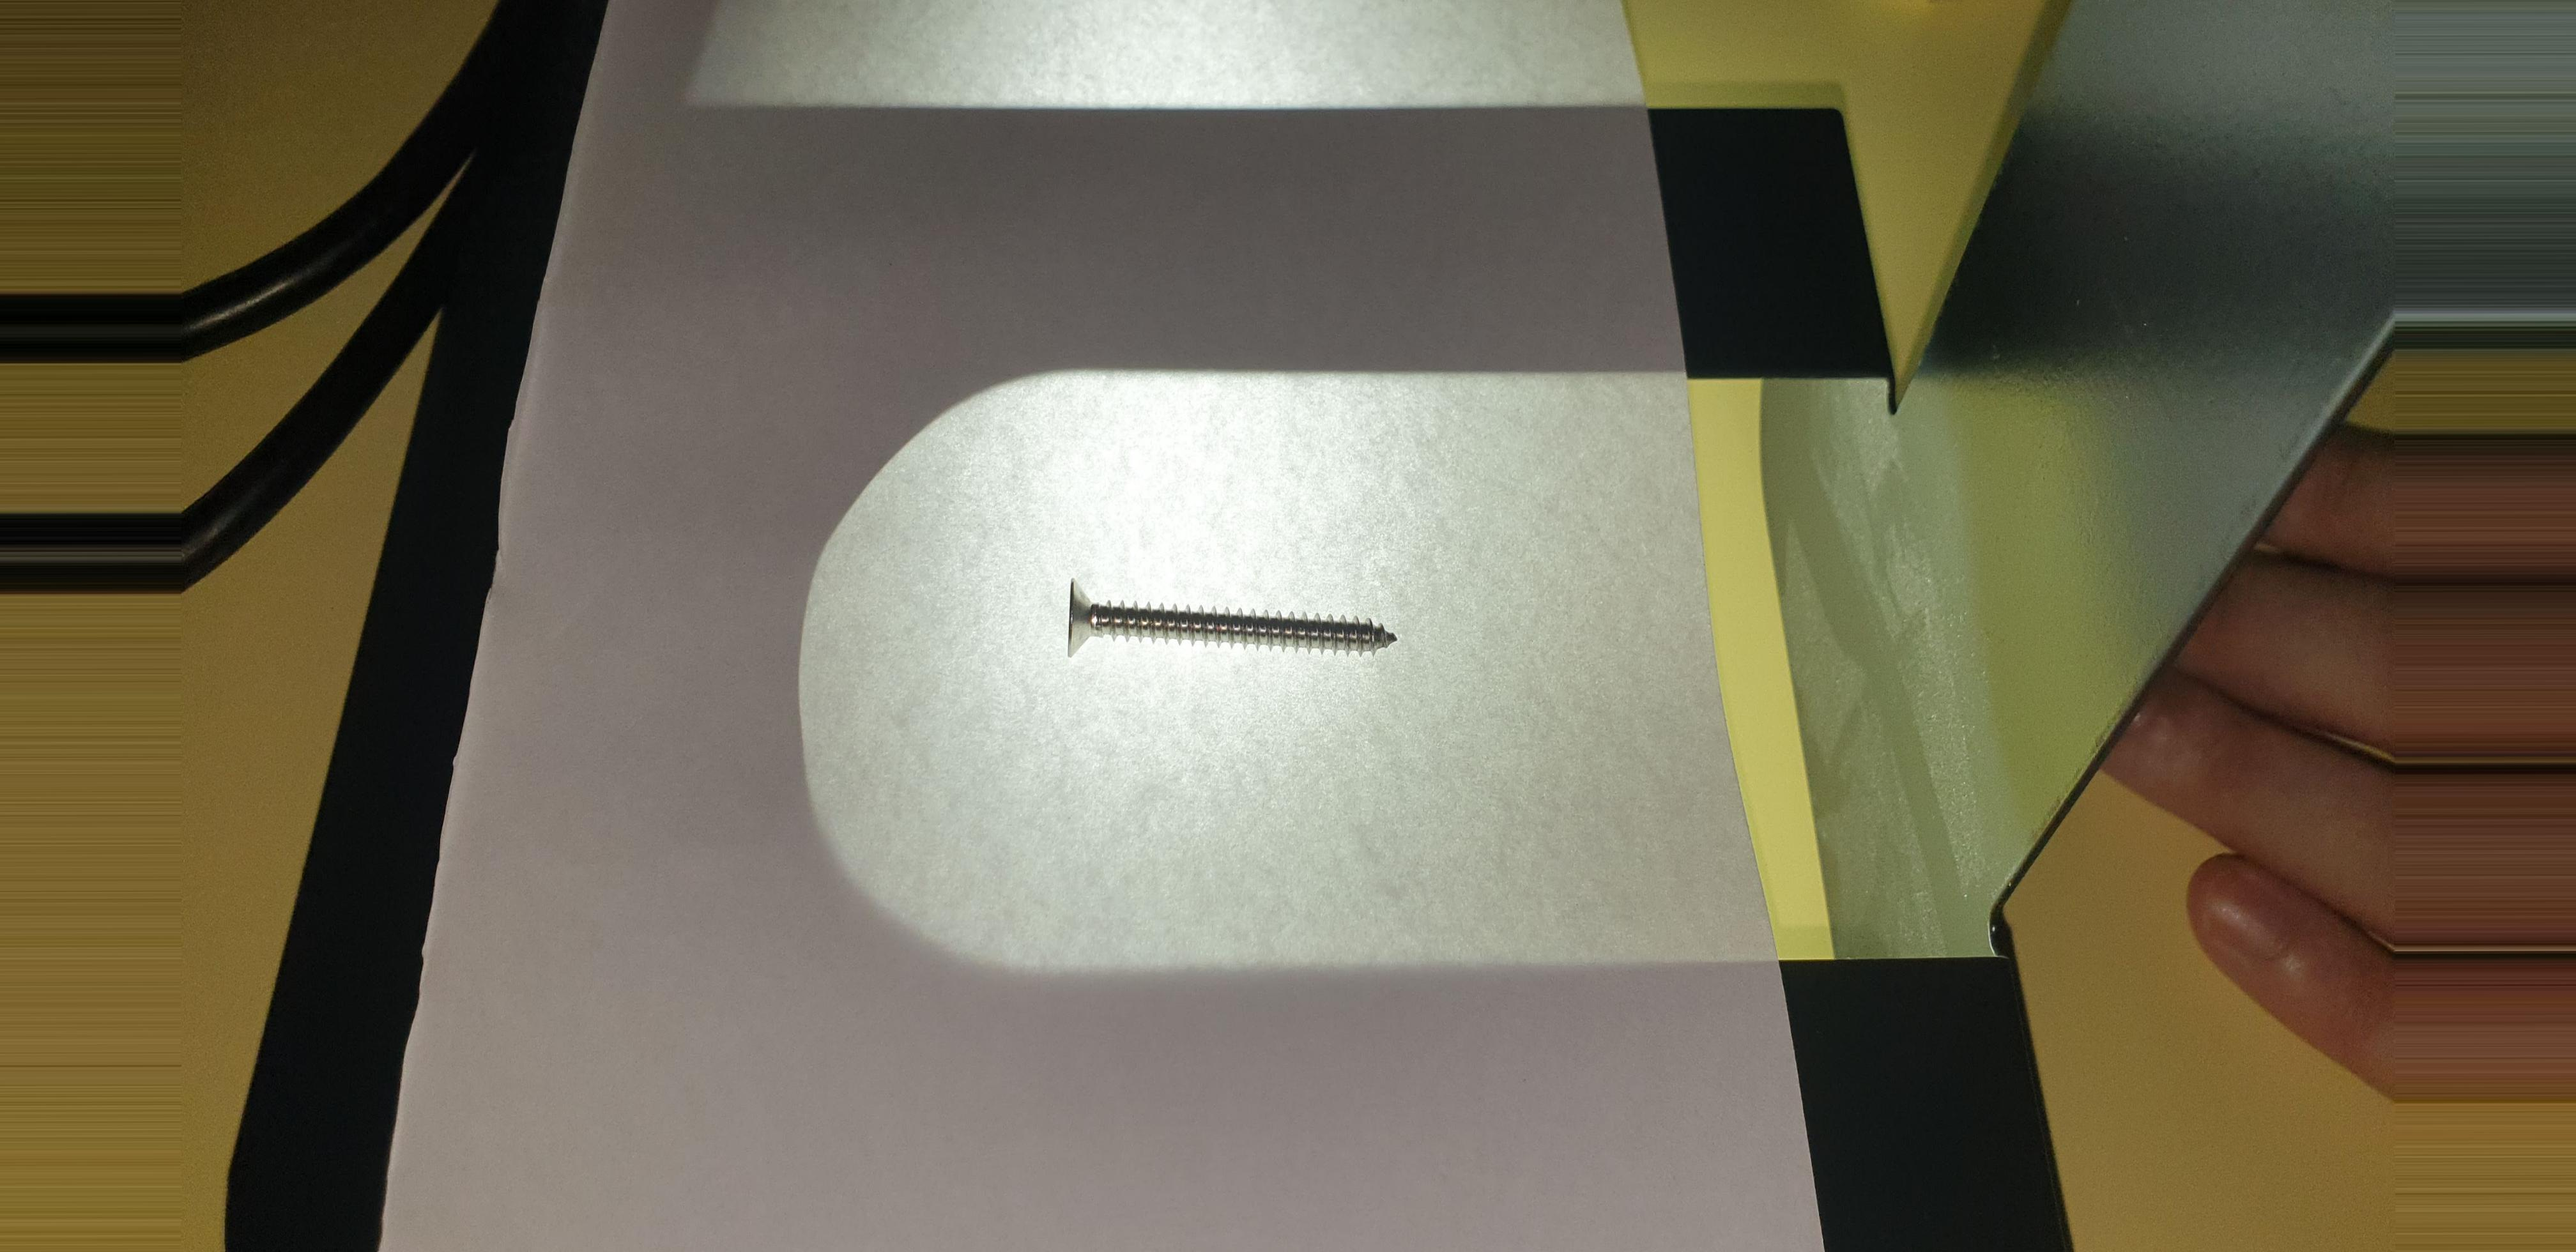fastener: (1028, 549, 1442, 677)
